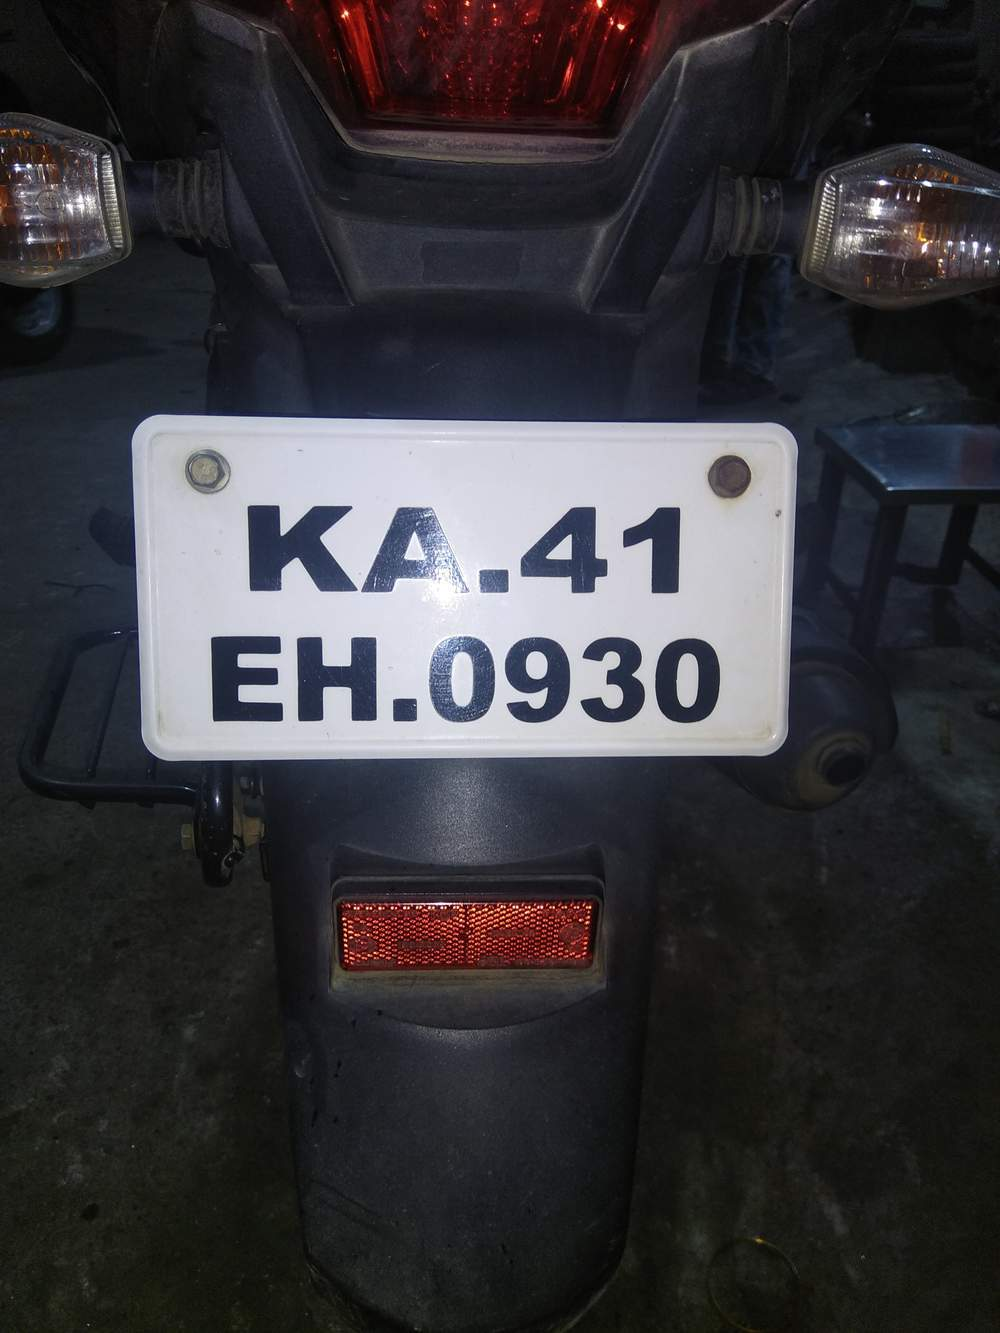number_plate: (124, 403, 802, 764)
